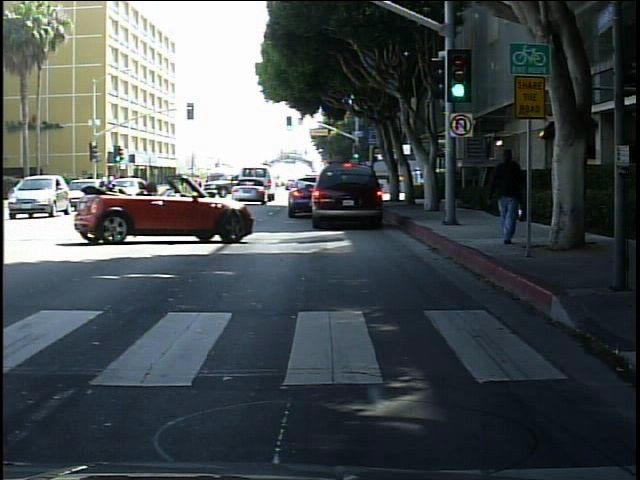person: (486, 136, 530, 247), (503, 148, 528, 230)
